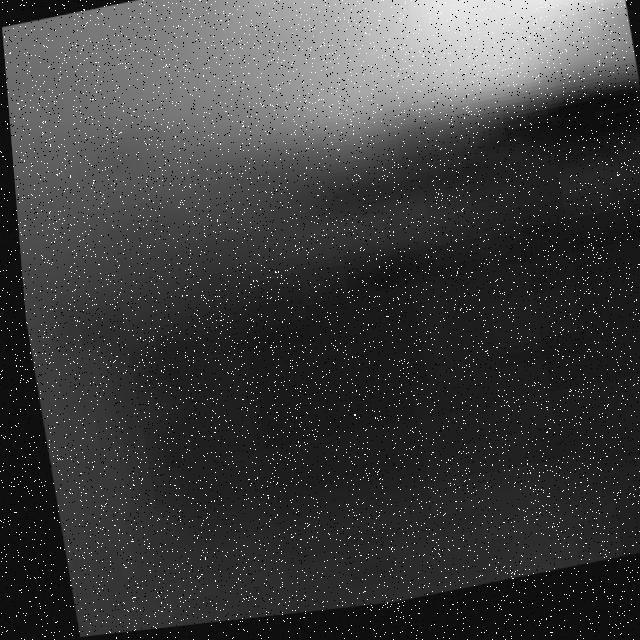person: (85, 1, 640, 203)
